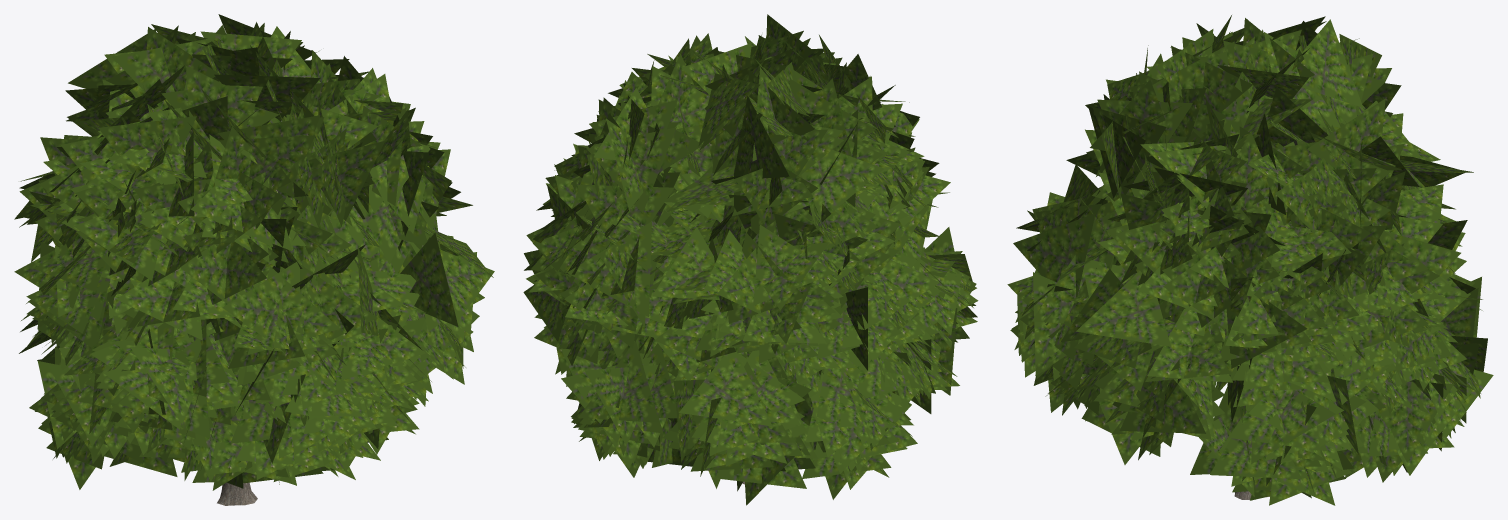
File: Quercus_Robur_Spring_Adult.glb
3 views of the same model, side by side, from view 1: azimuth 30°, elevation 25°; view 2: azimuth 150°, elevation 25°; view 3: azimuth 270°, elevation 25° (orthographic). The views are drawn at different scales.
Parts seen in each view (by area): view 1: Quercus_Robur_Spring_Adult__LOD3; view 2: Quercus_Robur_Spring_Adult__LOD3; view 3: Quercus_Robur_Spring_Adult__LOD3.
Boxes of the visible parts, x1,y1,x2,y2 form: Quercus_Robur_Spring_Adult__LOD3: (14, 14, 494, 505); Quercus_Robur_Spring_Adult__LOD3: (523, 14, 978, 505); Quercus_Robur_Spring_Adult__LOD3: (1007, 15, 1493, 505).
Size of the model in its own units: 20.85 by 22.89 by 22.11.
Materials: 2 (2 with a texture image).
